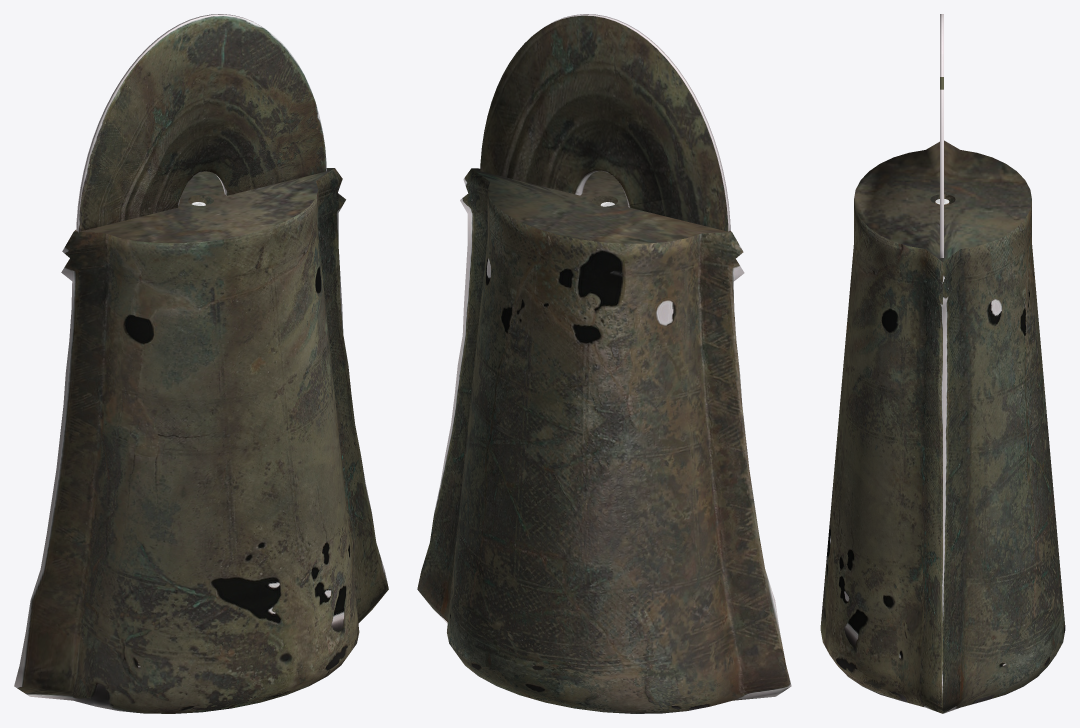
Rendered from doutaku.glb.
3 renders of one model, left to right at view 1: azimuth 30°, elevation 25°; view 2: azimuth 150°, elevation 25°; view 3: azimuth 270°, elevation 25°, orthographic. The views are drawn at different scales.
Parts seen in each view (by area): view 1: 円柱; view 2: 円柱; view 3: 円柱.
Boxes of the visible parts, x1,y1,x2,y2 form: 円柱: (14, 14, 388, 713); 円柱: (417, 14, 791, 713); 円柱: (820, 14, 1065, 713).
Size of the model in its own units: 2.73 by 4.49 by 1.61.
Materials: 5 (4 with a texture image).
